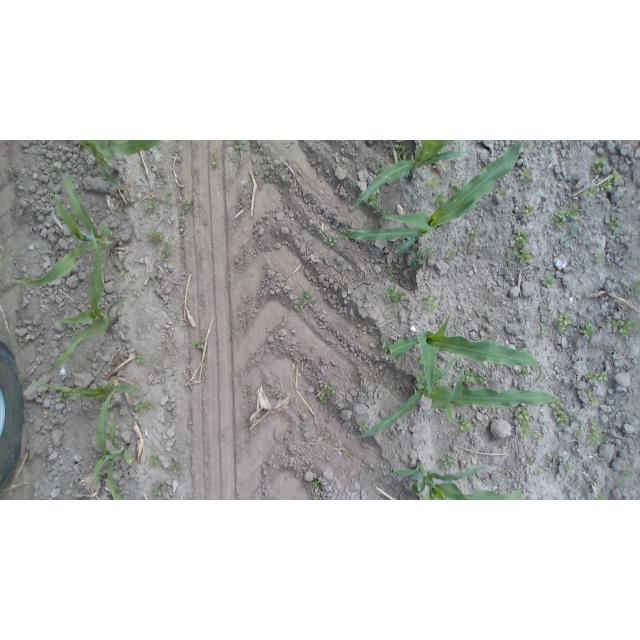Maize: (331, 141, 523, 254), (353, 353, 560, 440), (380, 312, 540, 400), (6, 167, 119, 288), (50, 226, 135, 379), (31, 392, 135, 501), (351, 141, 472, 228), (393, 458, 524, 500), (77, 140, 162, 190), (31, 378, 137, 400)
Weeds: (504, 233, 536, 265), (363, 191, 391, 222), (588, 173, 624, 197), (408, 244, 435, 268), (513, 406, 531, 440), (611, 316, 640, 337), (551, 394, 569, 426), (417, 366, 447, 385), (552, 208, 579, 228), (384, 286, 409, 307), (317, 382, 338, 405), (587, 418, 603, 447), (461, 367, 490, 383), (561, 225, 580, 248), (577, 321, 597, 341), (394, 143, 415, 160), (585, 371, 609, 384), (422, 293, 439, 311), (439, 453, 457, 470), (432, 188, 449, 206), (618, 467, 633, 486), (298, 288, 312, 308), (133, 400, 153, 414), (604, 216, 622, 231), (540, 272, 556, 288), (324, 232, 340, 248), (147, 229, 165, 243), (181, 198, 195, 216), (593, 155, 609, 170), (558, 313, 571, 331), (311, 479, 322, 500), (161, 241, 172, 261), (587, 389, 599, 406), (518, 168, 531, 182), (459, 417, 472, 431), (630, 281, 640, 297), (537, 323, 547, 339), (386, 266, 396, 282), (426, 176, 438, 189), (144, 199, 155, 213), (447, 248, 458, 261), (60, 391, 73, 402), (358, 419, 368, 433), (574, 427, 586, 438), (153, 484, 164, 496), (518, 366, 529, 378), (150, 455, 161, 466), (236, 142, 249, 151), (190, 341, 203, 350), (523, 203, 533, 214), (211, 153, 218, 167), (564, 461, 572, 472), (246, 384, 252, 398), (533, 433, 544, 440), (375, 168, 386, 175), (164, 193, 172, 202), (173, 463, 180, 473), (120, 271, 127, 281), (594, 251, 605, 257), (299, 423, 306, 432), (137, 357, 146, 364), (474, 421, 480, 431), (470, 230, 476, 239), (529, 459, 536, 466), (498, 188, 505, 194), (547, 453, 554, 459), (391, 472, 397, 479), (348, 452, 354, 458), (505, 468, 511, 474), (540, 467, 545, 473)
